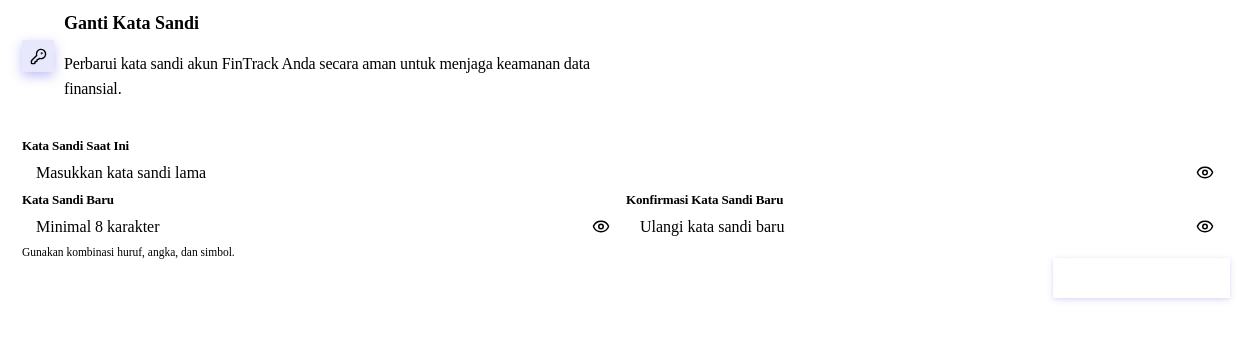
Test: ChangePasswordCard Component › validates password mismatch on client side
This screenshot has width=1251, height=341.
In the password field labelled "Kata Sandi Saat Ini": point(626, 173) x1=22 y1=154 x2=1230 y2=192, type "OldPassword123!"
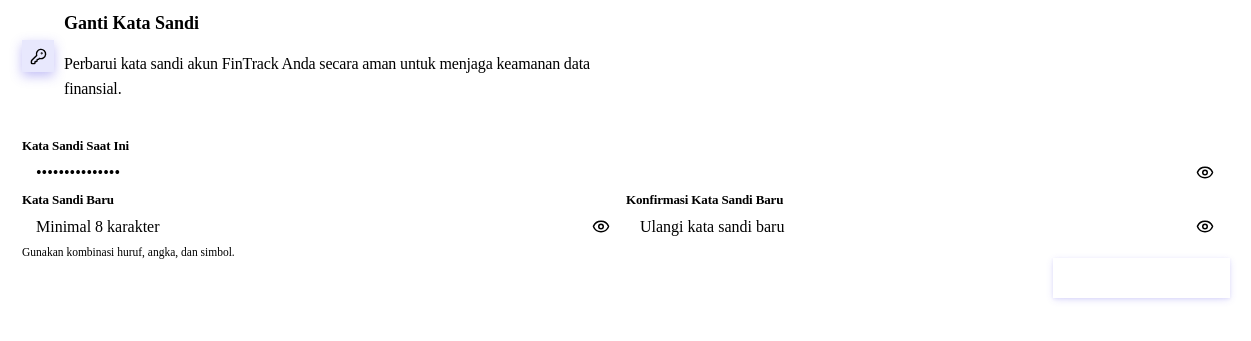
In the password field labelled "Kata Sandi Baru": point(324, 227) x1=22 y1=208 x2=626 y2=246, type "NewPassword123!"
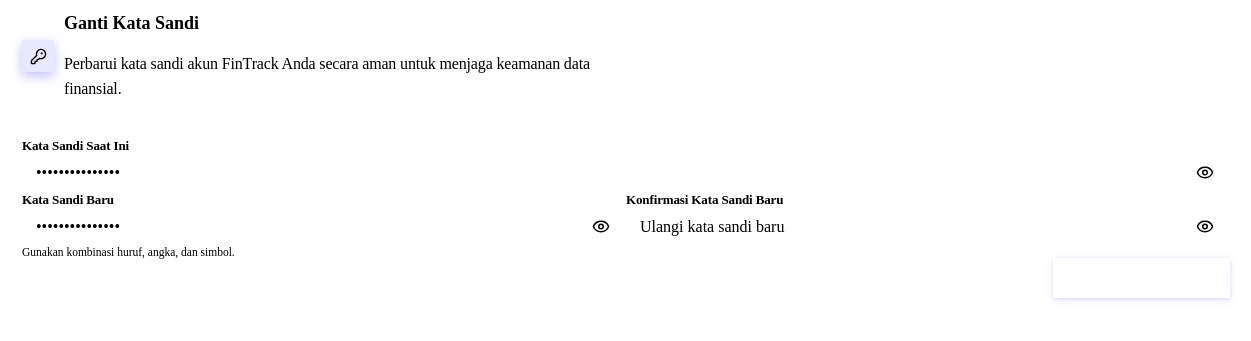
In the password field labelled "Konfirmasi Kata Sandi Baru": point(928, 227) x1=626 y1=208 x2=1230 y2=246, type "Mismatch123!"
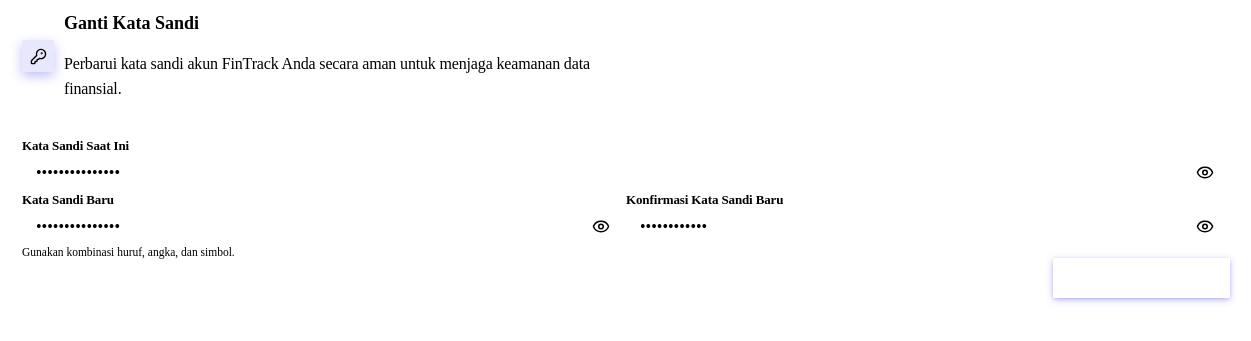
Click the button "Perbarui Kata Sandi": point(1141, 278) x1=1053 y1=258 x2=1230 y2=298
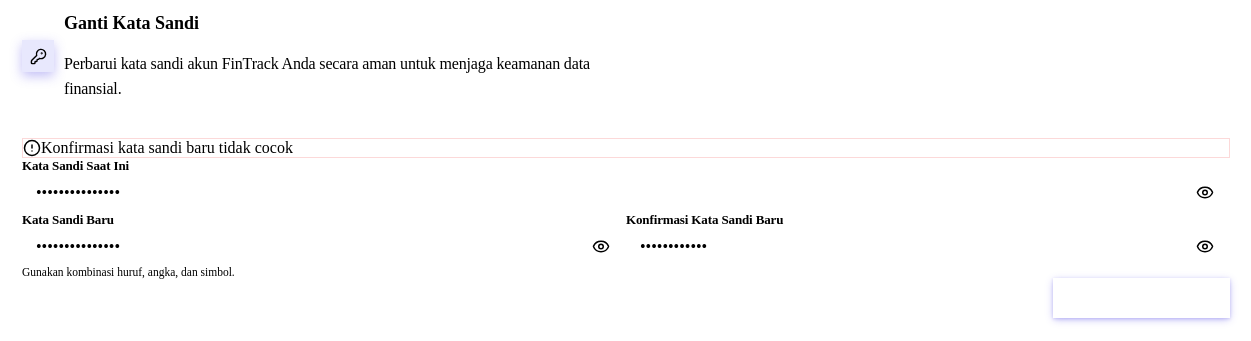
Expected: the text "Konfirmasi kata sandi baru tidak cocok" is shown, x1=41 y1=139 x2=293 y2=157
